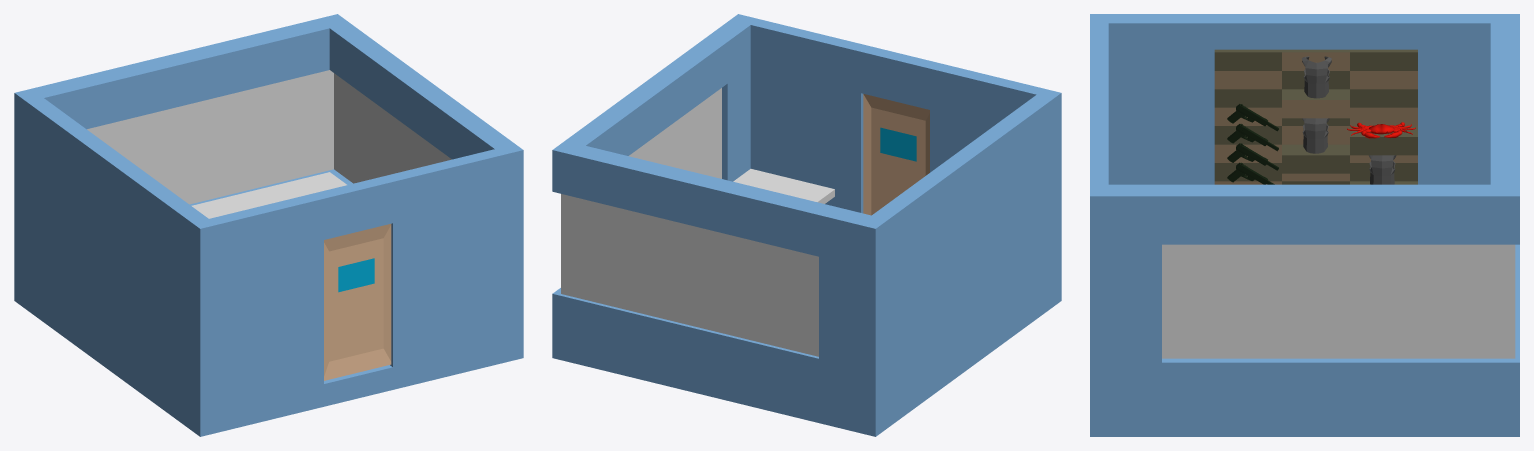
File: all 2.fbx
3 views of the same model, side by side, from view 1: azimuth 30°, elevation 25°; view 2: azimuth 150°, elevation 25°; view 3: azimuth 270°, elevation 25° (orthographic). The views are drawn at different scales.
Visible parts, largest first — view 1: Cube, Cube.001, Куб, Cube.008; view 2: Cube, Cube.001, Куб, Cube.008; view 3: Cube, Cube.001, Куб.001, BaseMeshBKP.002, BaseMeshBKP.001, BaseMeshBKP, Shell, Cube.002, Cube.004, Cube.005, Cube.006.
Boxes of the visible parts, x1,y1,x2,y2 form: Cube: (14,14,523,436); Cube.001: (87,70,451,204); Куб: (324,224,391,380); Cube.008: (191,172,346,218); Cube: (552,14,1061,436); Cube.001: (561,88,818,356); Куб: (863,94,929,215); Cube.008: (733,169,834,203); Cube: (1090,14,1519,436); Cube.001: (1162,244,1515,358); Куб.001: (1214,49,1417,184); BaseMeshBKP.002: (1302,56,1331,98); BaseMeshBKP.001: (1302,118,1329,153); BaseMeshBKP: (1369,155,1396,184); Shell: (1347,122,1415,138); Cube.002: (1227,104,1278,131); Cube.004: (1227,124,1278,151); Cube.005: (1227,143,1278,170); Cube.006: (1227,162,1274,184).
Size of the model in its own units: 215 by 132 by 214.
